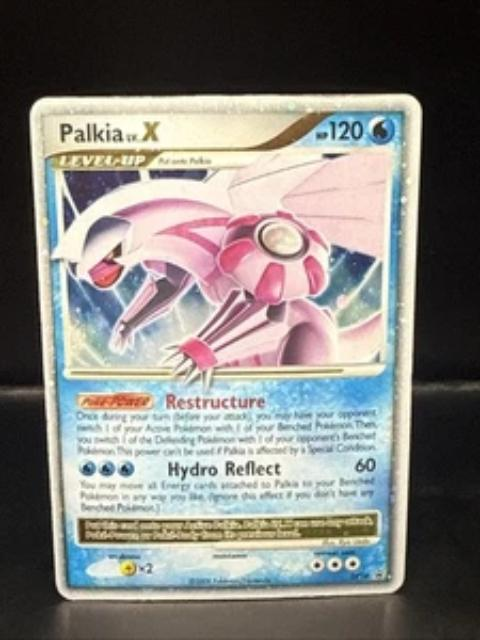Card: (27, 90, 427, 604)
Name: (55, 119, 168, 147)
